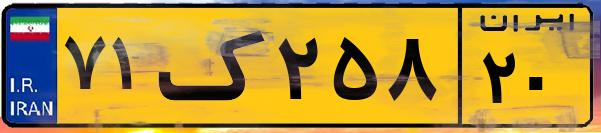0: (525, 38, 570, 115)
1: (110, 28, 158, 98)
2: (270, 28, 330, 110), (475, 38, 525, 113)
5: (330, 28, 385, 110)
7: (57, 26, 110, 100)
8: (385, 28, 445, 110)
ک: (158, 12, 270, 120)
